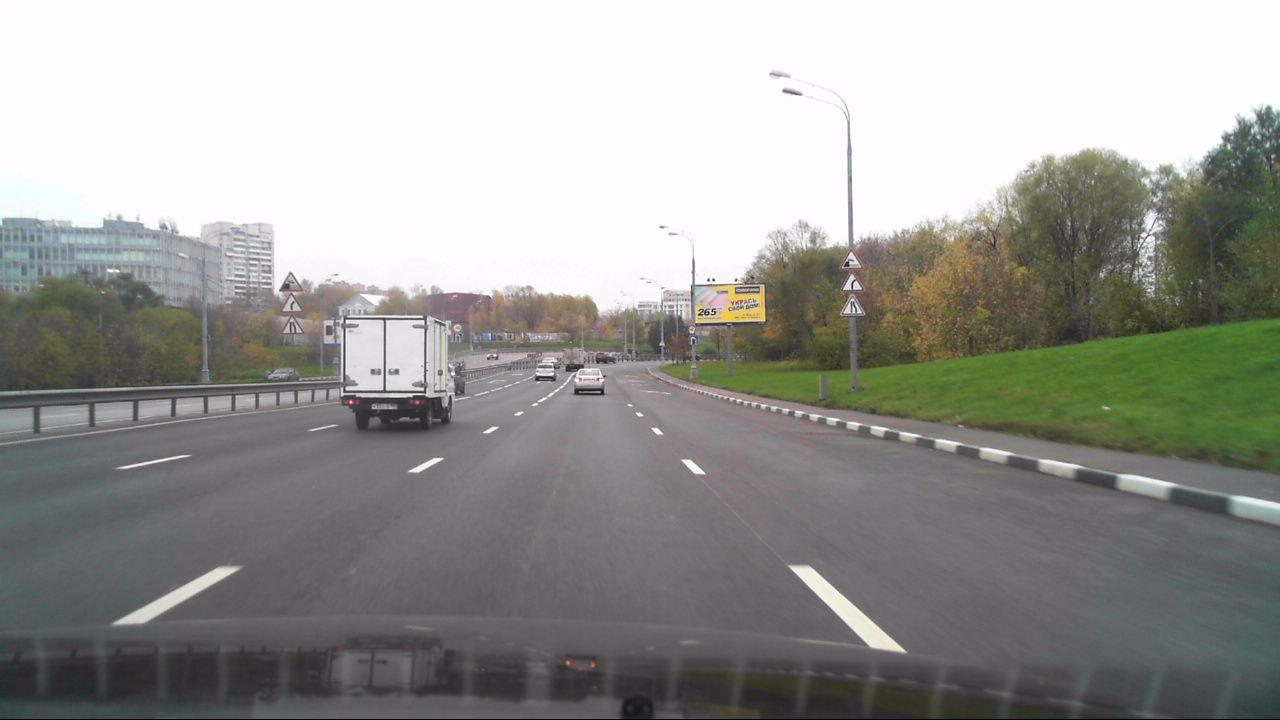1_10: (839, 248, 863, 270)
1_11_1: (839, 270, 864, 293)
1_20_2: (839, 294, 866, 317)
3_24: (688, 323, 699, 336)
5_15_5: (689, 336, 701, 346)
